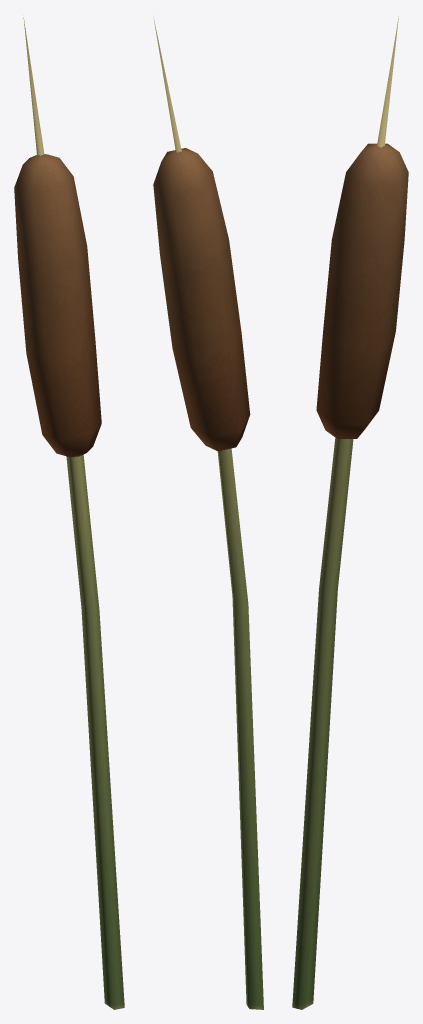
Rendered from Cattail_5.glb.
The picture shows the model from 3 angles, left to right: view 1: azimuth 90°, elevation 25°; view 2: azimuth 150°, elevation 25°; view 3: azimuth 270°, elevation 25°; orthographic projection. The views are drawn at different scales.
Visible parts, largest first — view 1: Sphere.024, Cube.082; view 2: Sphere.024, Cube.082; view 3: Sphere.024, Cube.082.
Boxes of the visible parts, box(x1,y1,x2,y2) form: Sphere.024: box(14, 154, 101, 457); Cube.082: box(23, 17, 124, 1009); Sphere.024: box(153, 148, 250, 451); Cube.082: box(153, 16, 263, 1009); Sphere.024: box(316, 143, 408, 438); Cube.082: box(292, 16, 398, 1009).
Bounding box in the file's own units: 0.0708 × 0.9232 × 0.0956.
2 materials, 2 textured.
